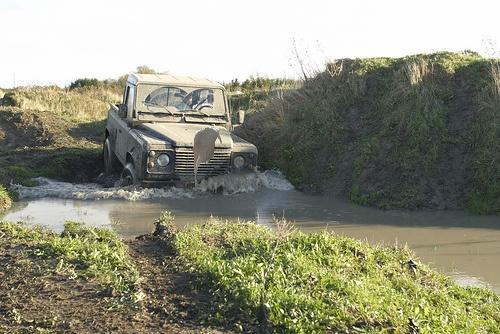tampered: (194, 128, 219, 186)
